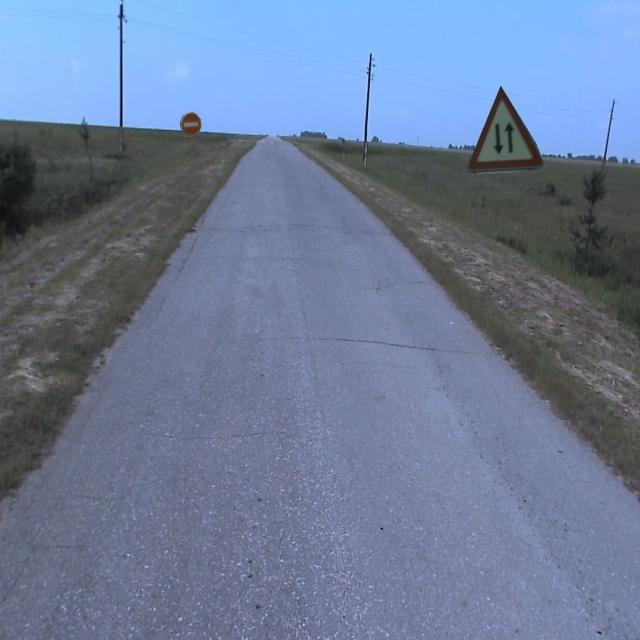road: (0, 135, 639, 639)
